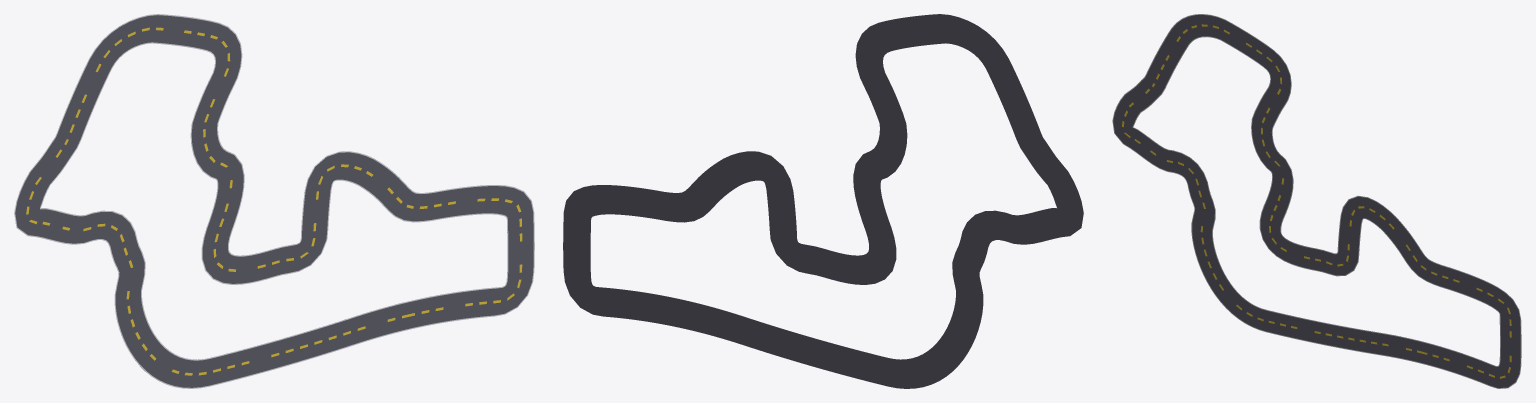
The model's file is track.obj.
3 views of the same model, side by side, from view 1: azimuth 30°, elevation 25°; view 2: azimuth 150°, elevation 25°; view 3: azimuth 330°, elevation 25° (orthographic). The views are drawn at different scales.
Bounding box in the file's own units: 20.26 × 14.38 × 0.002.
